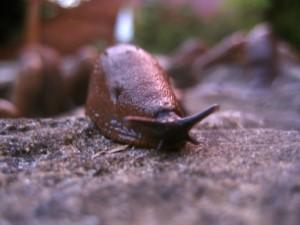slug: (51, 23, 221, 158)
